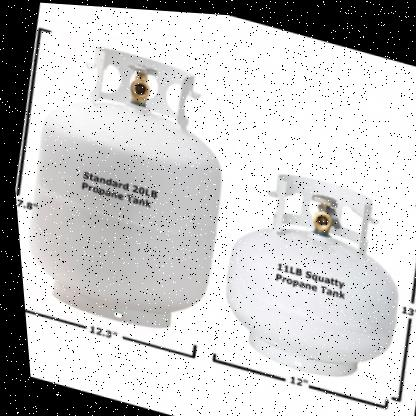gas-tank: (1, 21, 265, 370), (200, 148, 415, 406)
